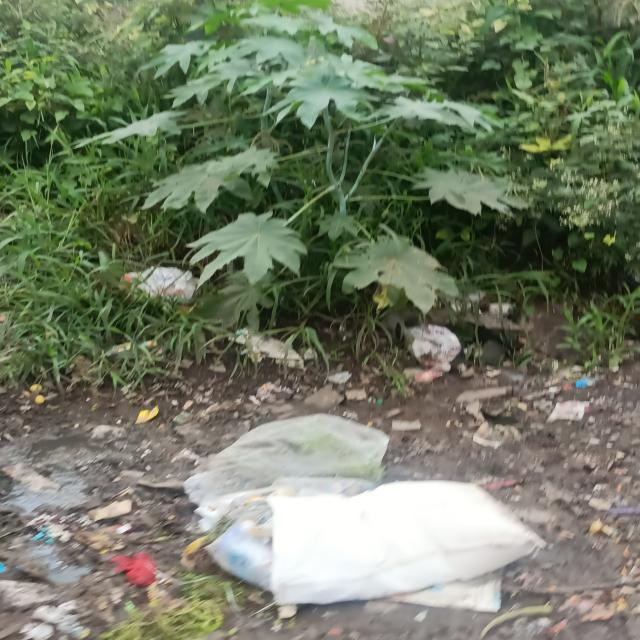garbage: (9, 418, 521, 632)
